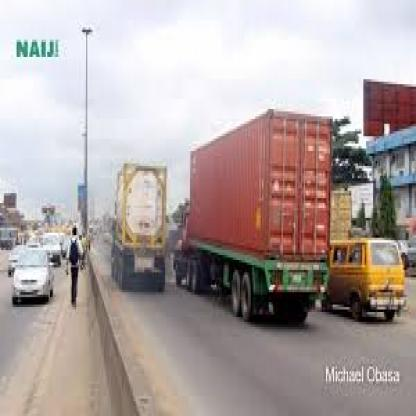car: (173, 120, 334, 347), (106, 150, 172, 305), (324, 219, 408, 328), (10, 248, 58, 321), (42, 225, 64, 274)
